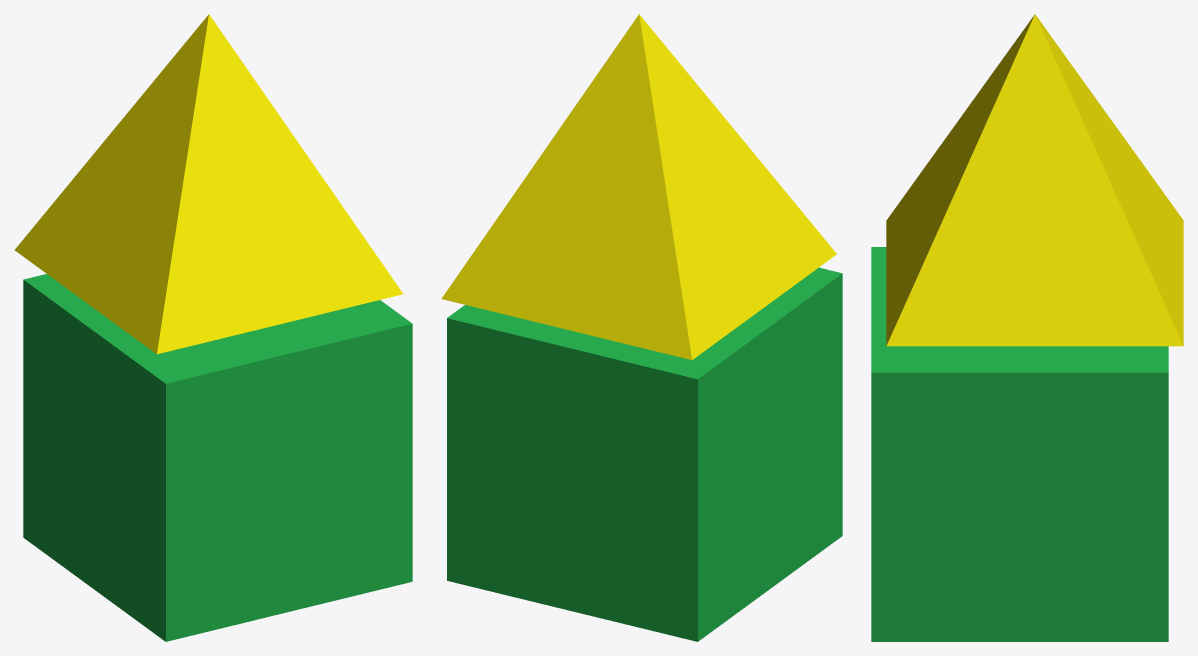
3 renders of one model, left to right at view 1: azimuth 30°, elevation 25°; view 2: azimuth 150°, elevation 25°; view 3: azimuth 270°, elevation 25°, orthographic. The views are drawn at different scales.
Bounding box in the file's own units: 0.0403 × 0.0838 × 0.042.
